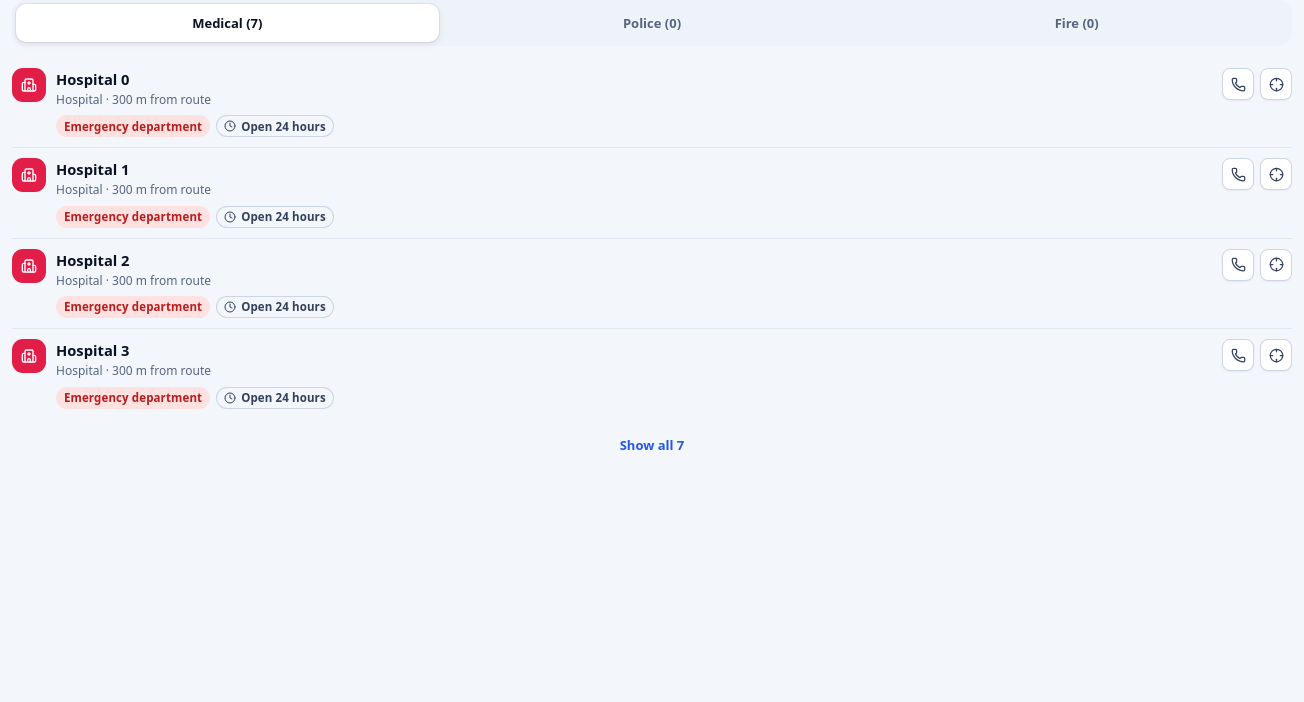
Test case: EmergencyList › collapses long lists
The width and height of the screenshot is (1304, 702).
Expected: the number of list items is 4, [12,58,1292,147]; [12,147,1292,238]; [12,238,1292,328]; [12,328,1292,419]
What coordinates should you click on to do the following:
click the button "Show all 7"
I would click on:
 (652, 445)
Its box is [12,431,1292,459].
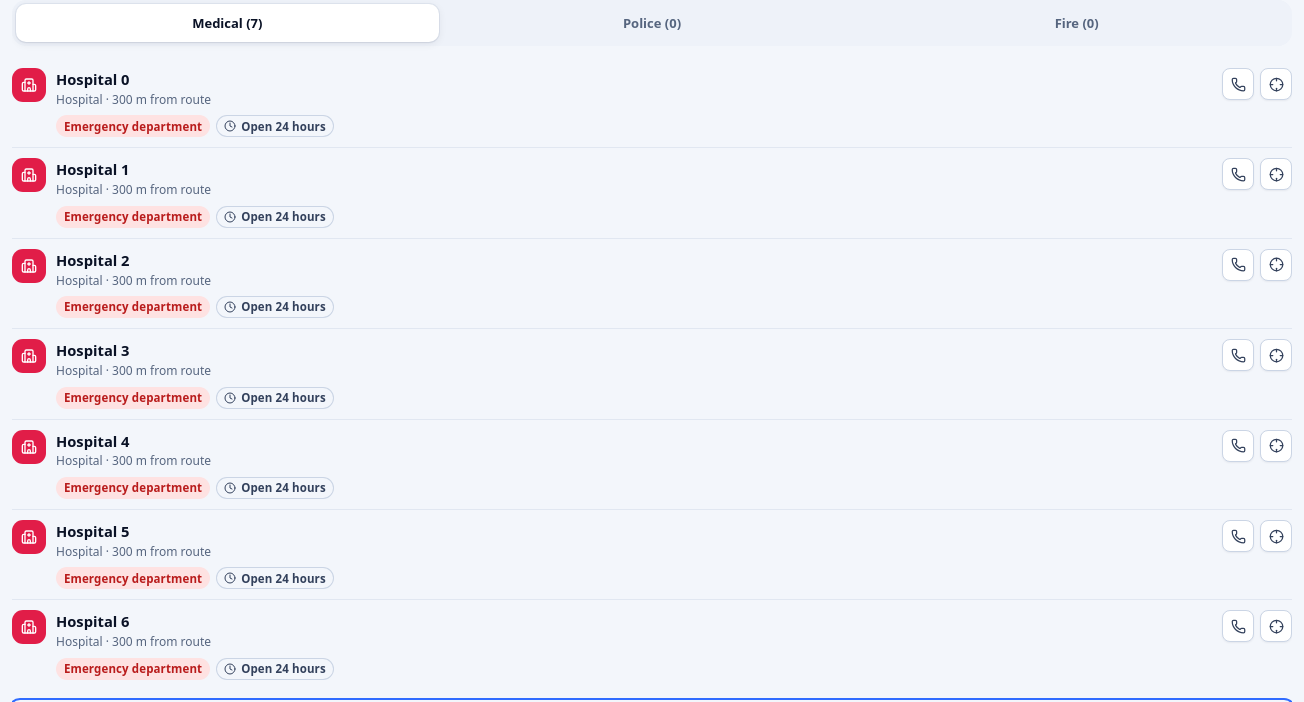
Result: the number of list items is 7
